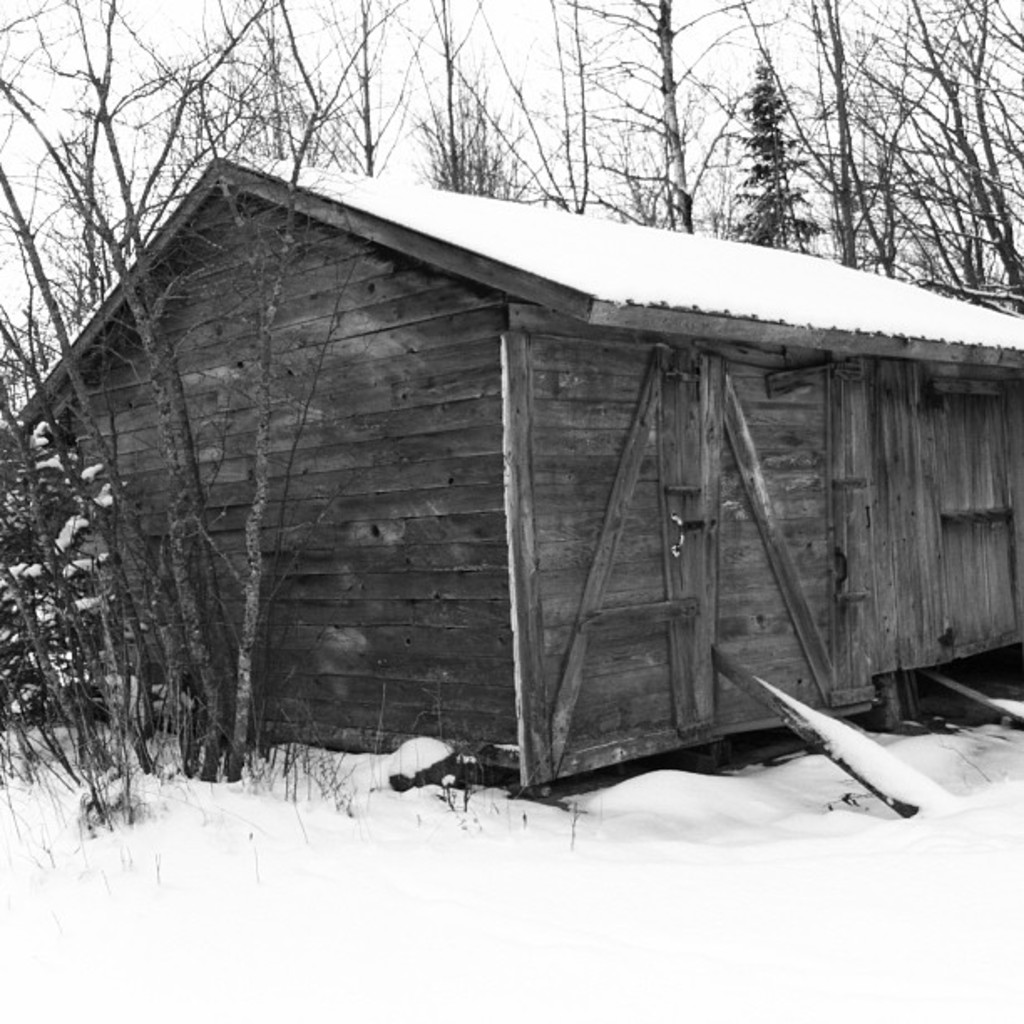Tree: (0, 0, 1023, 779)
